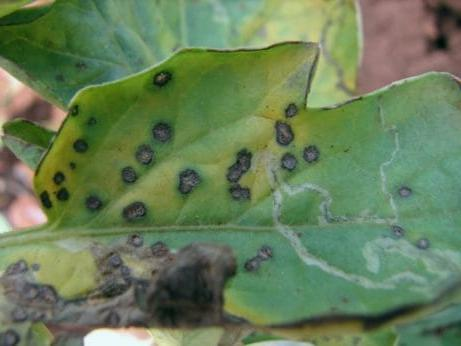Tomato Septoria leaf spot: (32, 36, 457, 319)
